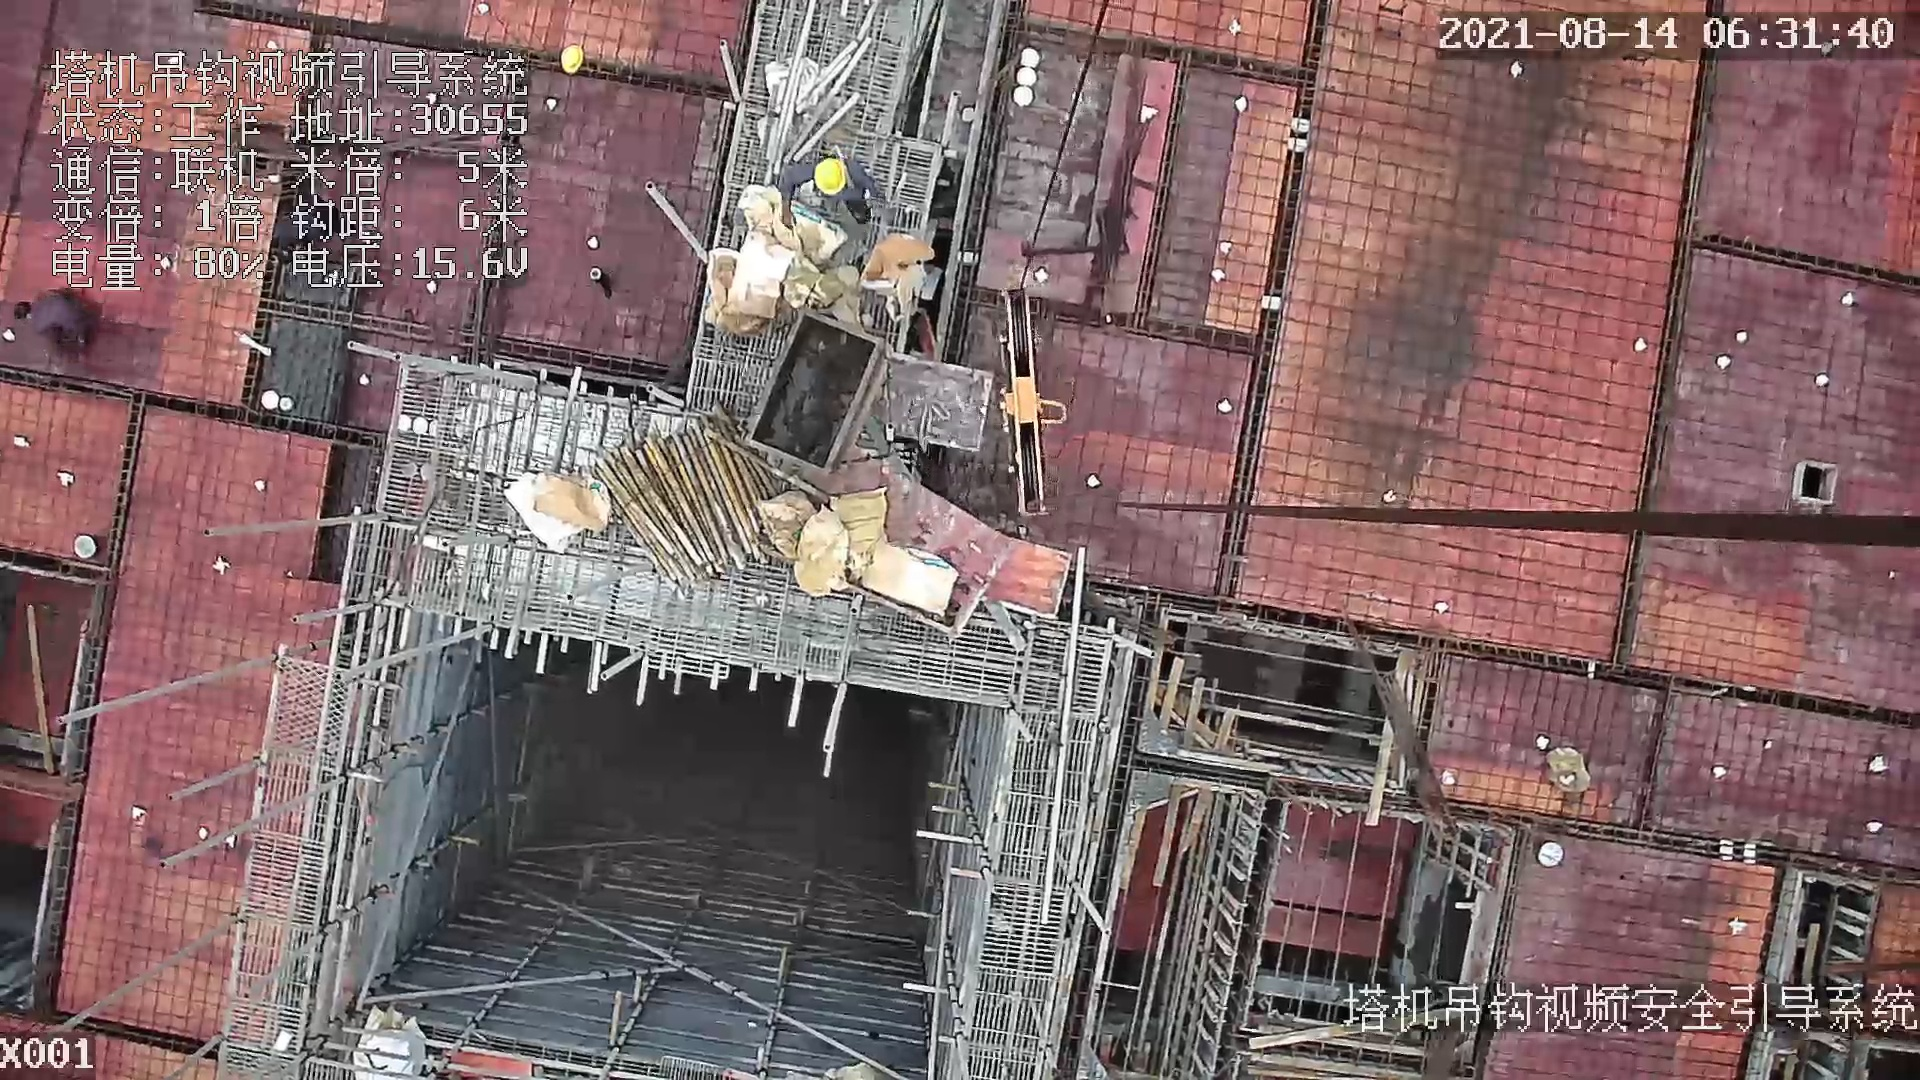helmet: (810, 153, 853, 199), (554, 40, 595, 74)
hook: (999, 290, 1063, 513)
hopper: (753, 318, 895, 482)
person: (15, 281, 110, 362), (791, 155, 888, 226)
scaffold: (597, 412, 779, 613)
